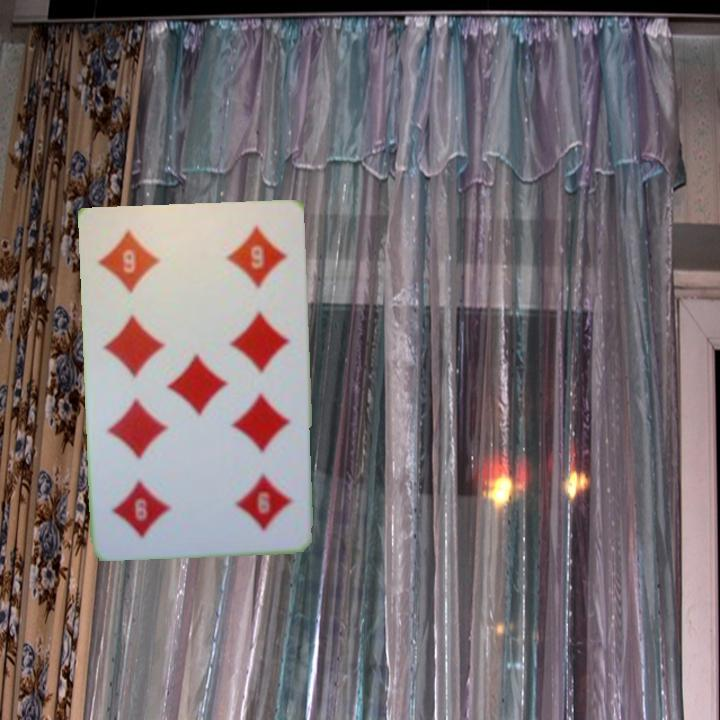d_9.png: (94, 219, 197, 309), (197, 452, 300, 541)
